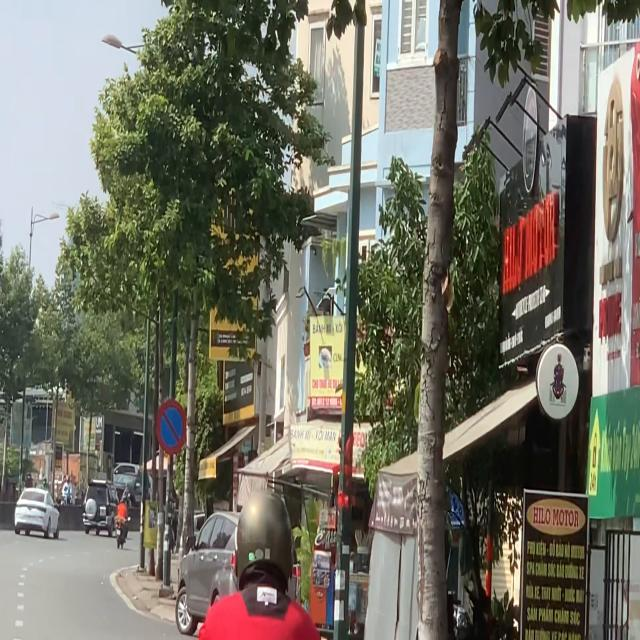Cam do: (155, 398, 187, 456)
